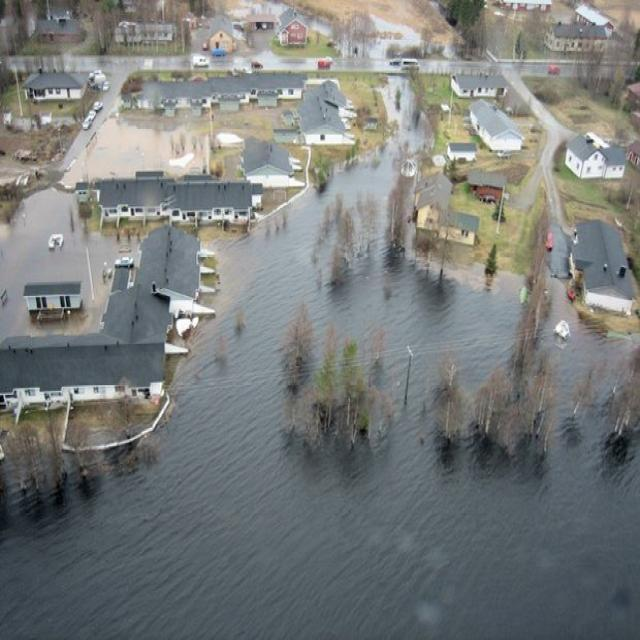flood: (0, 200, 640, 634), (305, 76, 431, 273), (0, 189, 120, 334), (505, 69, 575, 226), (61, 117, 209, 186), (336, 14, 423, 70), (4, 53, 189, 74), (511, 164, 544, 210), (252, 49, 316, 72)
house: (0, 334, 164, 406), (571, 222, 636, 312), (133, 230, 201, 304), (292, 80, 354, 144), (95, 174, 174, 223), (172, 179, 252, 227), (104, 290, 171, 344), (468, 98, 529, 157), (561, 129, 626, 184), (19, 68, 90, 113), (416, 200, 482, 248), (244, 140, 304, 192), (139, 78, 213, 116), (212, 72, 304, 102), (115, 20, 178, 54), (546, 21, 608, 54), (24, 282, 82, 312), (274, 3, 308, 50), (451, 73, 508, 101), (469, 171, 508, 202), (37, 20, 84, 42), (446, 140, 476, 162)
